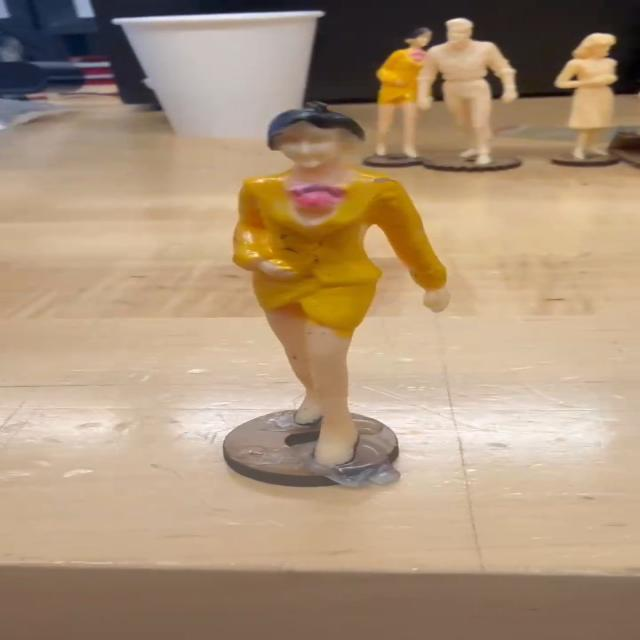Authorized: (209, 104, 429, 494)
